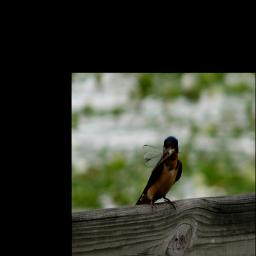Swallow: (135, 136, 183, 216)
